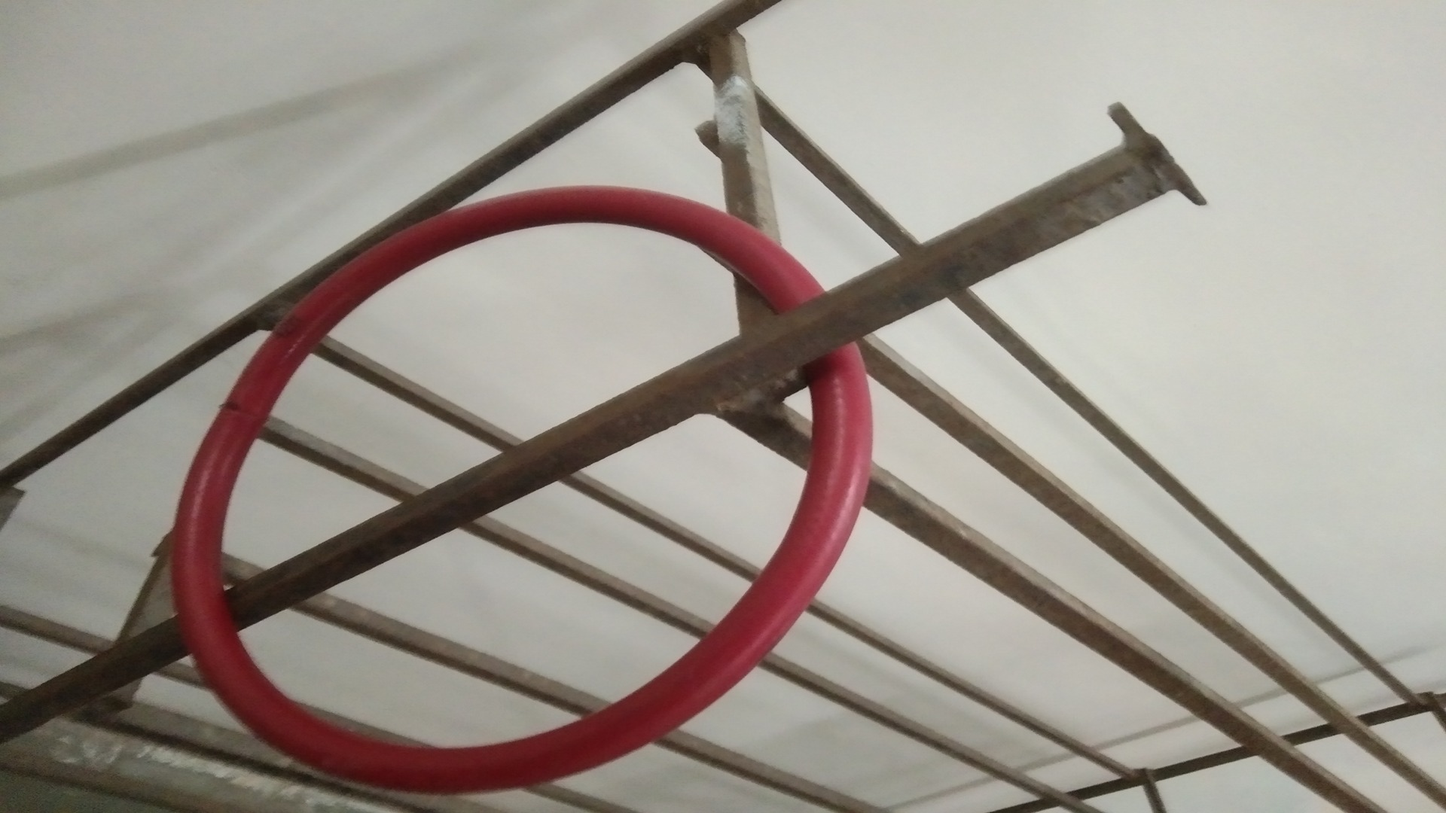Red ring: (163, 184, 869, 787)
